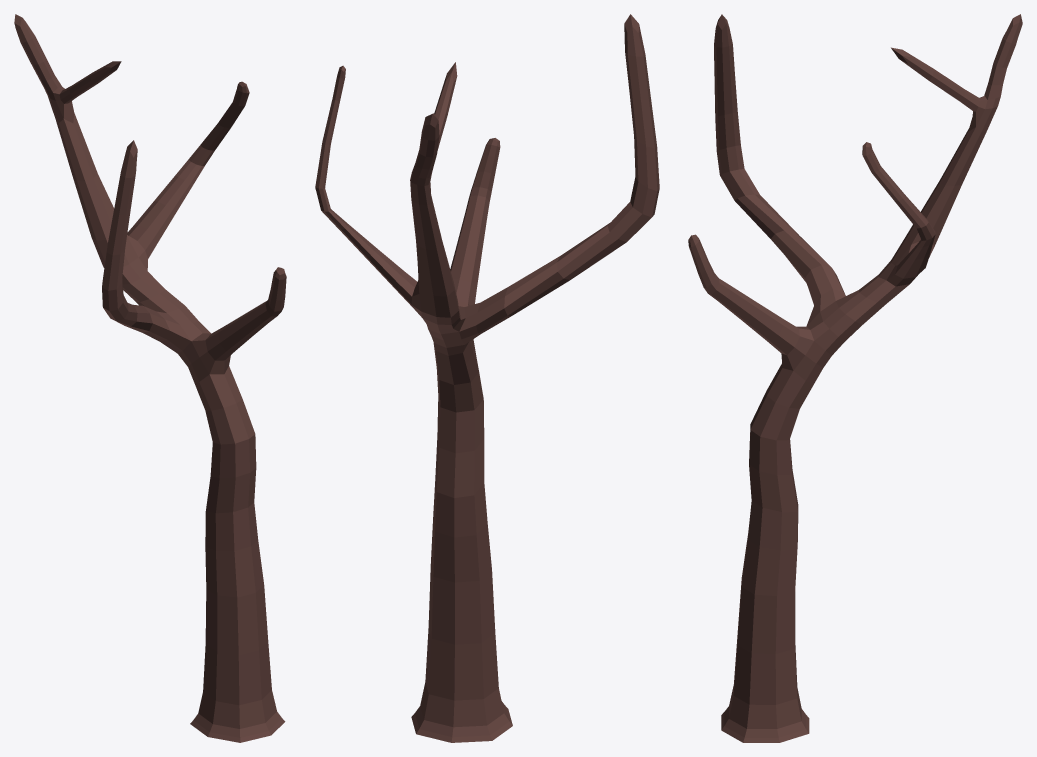
The model's file is CommonTree_Dead_4.glb.
3 views of the same model, side by side, from view 1: azimuth 30°, elevation 25°; view 2: azimuth 150°, elevation 25°; view 3: azimuth 270°, elevation 25° (orthographic). The views are drawn at different scales.
Parts seen in each view (by area): view 1: CommonTree_Dead_4; view 2: CommonTree_Dead_4; view 3: CommonTree_Dead_4.
Boxes of the visible parts, <box> form: CommonTree_Dead_4: <box>14,14,286,742</box>; CommonTree_Dead_4: <box>315,14,659,742</box>; CommonTree_Dead_4: <box>688,14,1022,742</box>.
Bounding box in the file's own units: 0.816 × 2.37 × 1.08.
